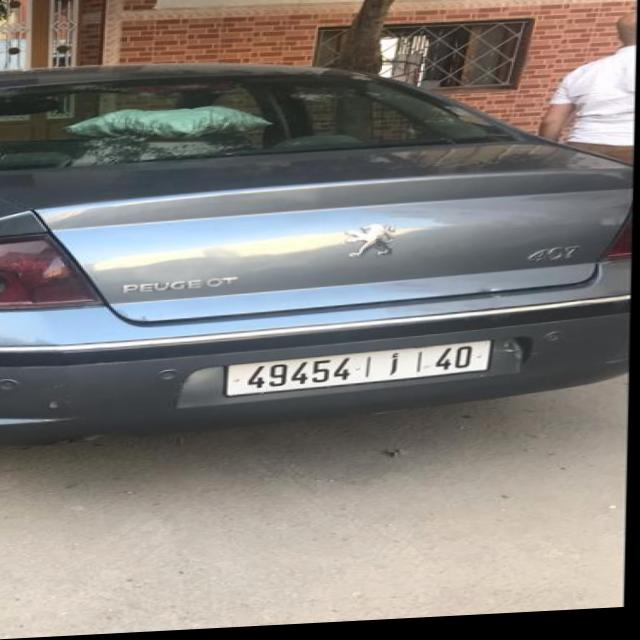License-Plate: (226, 346, 494, 398)
